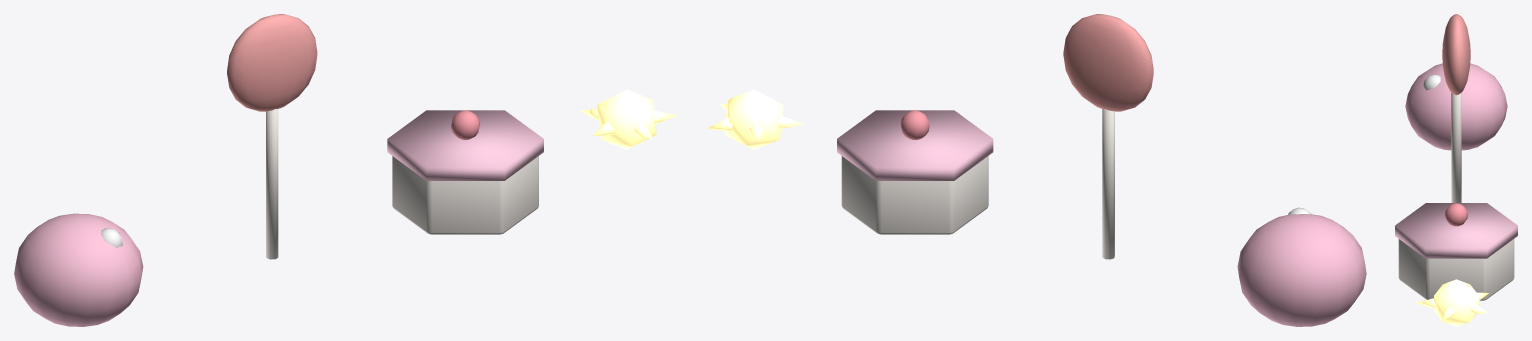
The model's file is props.glb.
3 views of the same model, side by side, from view 1: azimuth 30°, elevation 25°; view 2: azimuth 150°, elevation 25°; view 3: azimuth 270°, elevation 25° (orthographic). The views are drawn at different scales.
Parts seen in each view (by area): view 1: GD_Body, CK_Frost, CK_Base, LP_Head, ST_Core, LP_Stick, CK_Cherry; view 2: GD_Body, CK_Frost, CK_Base, LP_Head, ST_Core, LP_Stick, CK_Cherry; view 3: GD_Body, CK_Frost, CK_Base, LP_Head, ST_Core, LP_Stick, CK_Cherry, GD_HL, ST_Tip2, ST_Tip0, ST_Tip1.
Boxes of the visible parts, bbox=[...] form: GD_Body: bbox=[14, 213, 143, 326]; CK_Frost: bbox=[387, 110, 543, 180]; CK_Base: bbox=[392, 156, 538, 234]; LP_Head: bbox=[227, 14, 317, 111]; ST_Core: bbox=[597, 89, 656, 149]; LP_Stick: bbox=[266, 109, 278, 259]; CK_Cherry: bbox=[451, 110, 479, 139]; GD_Body: bbox=[1237, 214, 1366, 326]; CK_Frost: bbox=[837, 110, 993, 180]; CK_Base: bbox=[841, 156, 988, 234]; LP_Head: bbox=[1063, 14, 1153, 111]; ST_Core: bbox=[724, 89, 783, 149]; LP_Stick: bbox=[1102, 109, 1114, 259]; CK_Cherry: bbox=[900, 110, 929, 139]; GD_Body: bbox=[1405, 63, 1507, 150]; CK_Frost: bbox=[1395, 203, 1517, 258]; CK_Base: bbox=[1398, 239, 1514, 300]; LP_Head: bbox=[1442, 14, 1470, 95]; ST_Core: bbox=[1434, 279, 1478, 326]; LP_Stick: bbox=[1451, 93, 1461, 202]; CK_Cherry: bbox=[1445, 203, 1467, 226]; GD_HL: bbox=[1423, 74, 1440, 90]; ST_Tip2: bbox=[1469, 303, 1488, 313]; ST_Tip0: bbox=[1416, 298, 1436, 308]; ST_Tip1: bbox=[1444, 306, 1455, 319].
Size of the model in its own units: 4.02 by 1.53 by 0.84.
